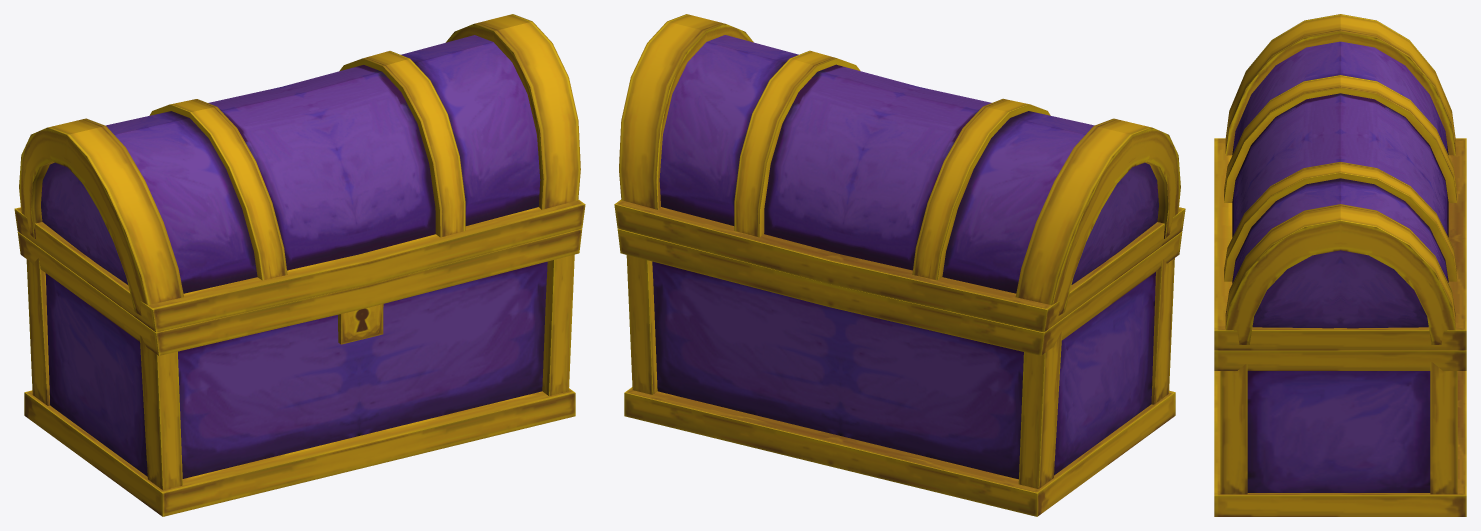
The model's file is e_asset_chest.fbx.
3 views of the same model, side by side, from view 1: azimuth 30°, elevation 25°; view 2: azimuth 150°, elevation 25°; view 3: azimuth 270°, elevation 25° (orthographic). The views are drawn at different scales.
Visible parts, largest first — view 1: polySurface974; view 2: polySurface974; view 3: polySurface974.
Part boxes in pixels (x1,y1,x2,y2): polySurface974: (14,14,585,516); polySurface974: (614,14,1185,516); polySurface974: (1214,14,1466,516).
Size of the model in its own units: 0.5923 by 0.4102 by 0.3049.
